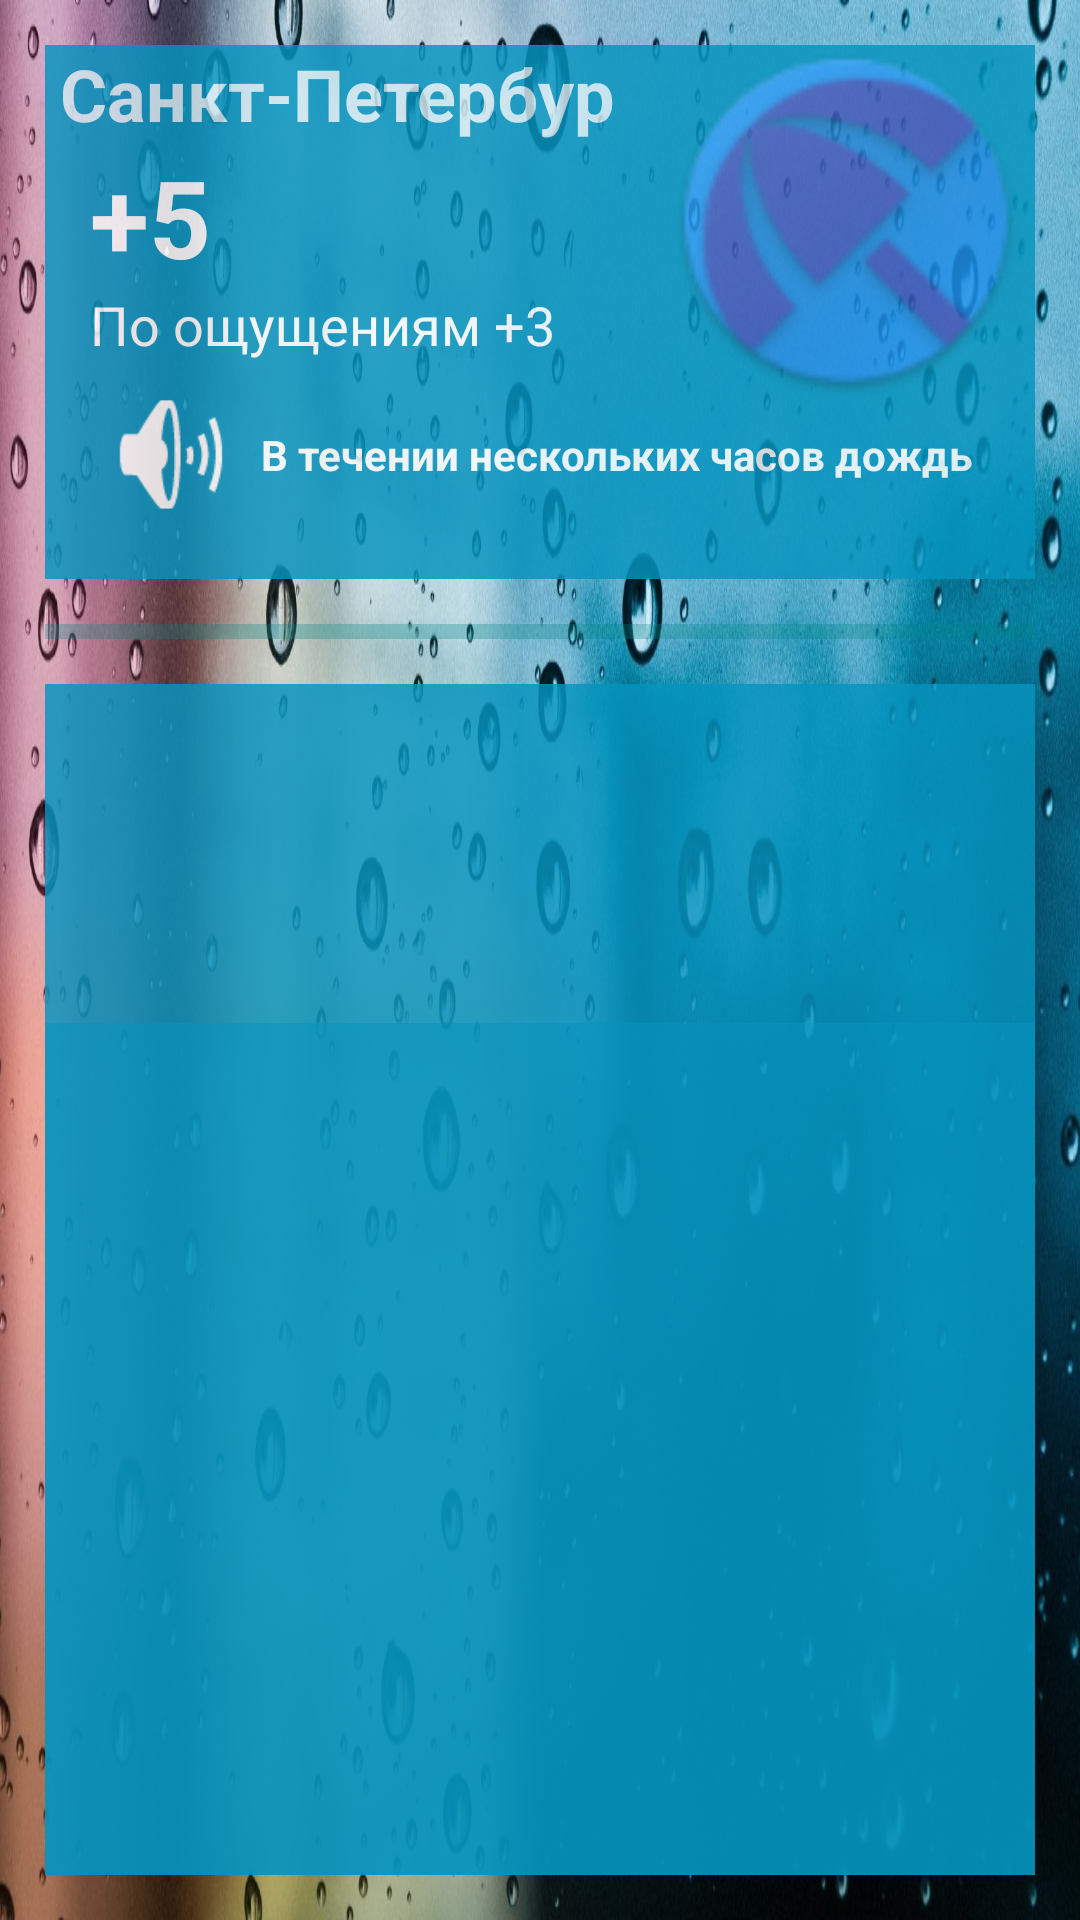

Where icons sit on this 1080px×1920px app screen, as (x1, y1, x2, y2):
lock silent mode off: (81, 378, 233, 531)
